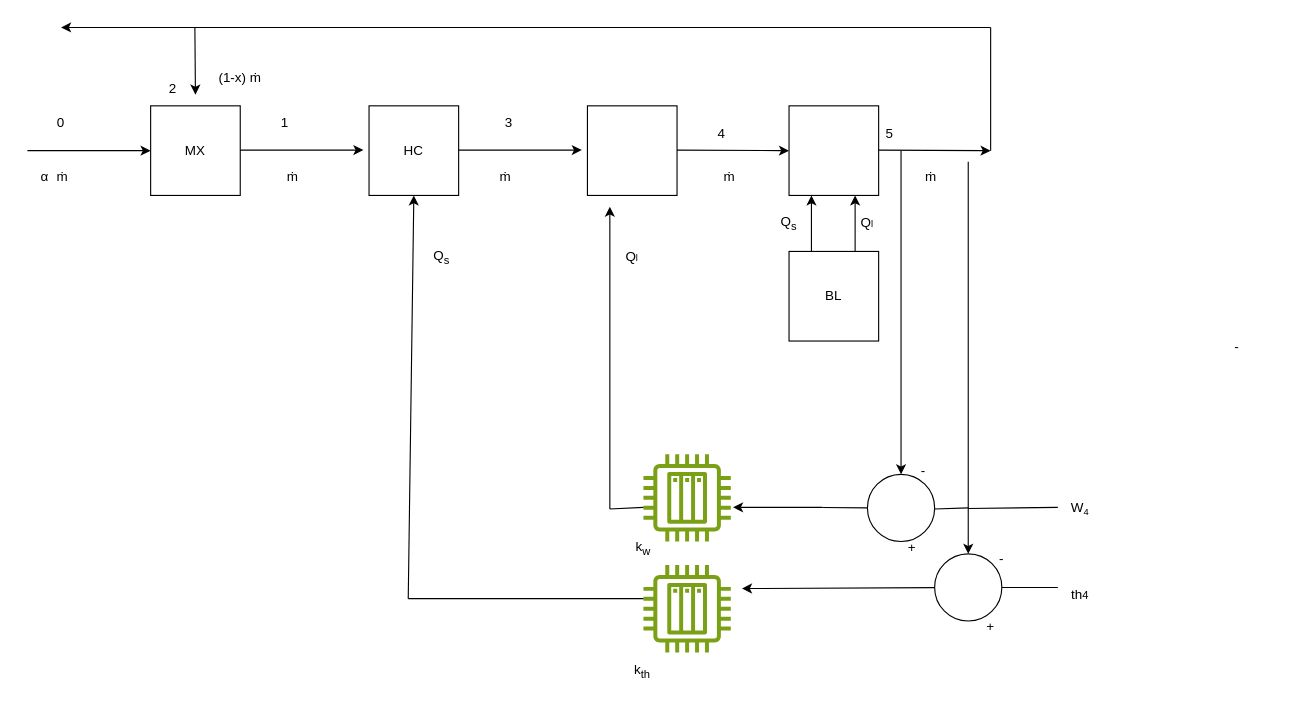
Image size: 1290x719. Some labels were removed from this diagram. The shapes that lost their labels are listed below. From the top down, each one's centre as x and y in pixels, then its label:
[631,150]: VH
[833,150]: TZ
